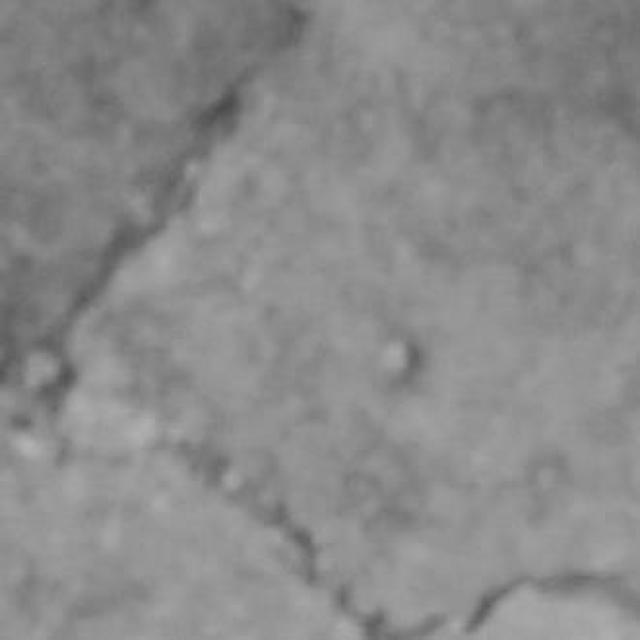crack: (0, 61, 267, 418), (169, 443, 449, 639), (464, 571, 639, 636)
